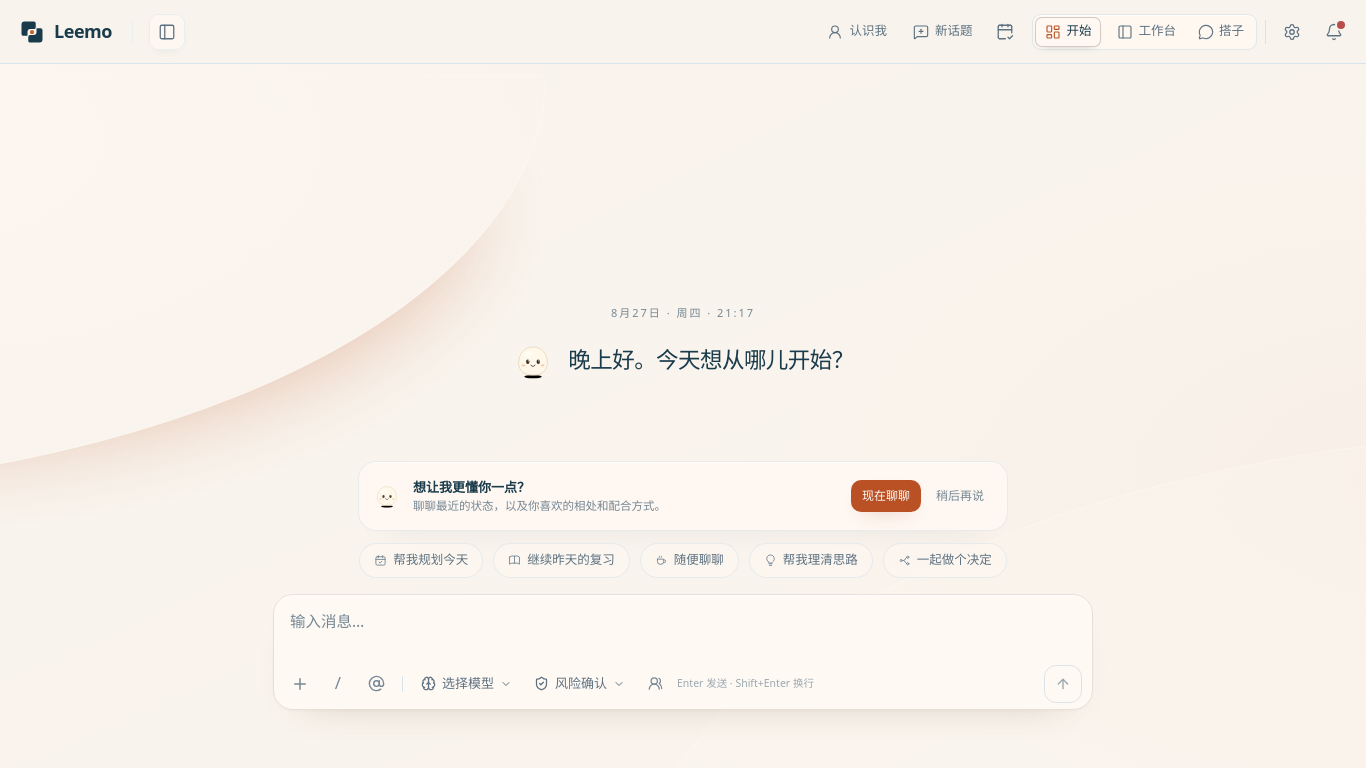
Test: HistoryDrawer — real conversations, not fixtures › lists nothing but an empty state before any conversation exists
Click the button named "历史对话" at coordinates (167, 32), box [149, 14, 185, 50]
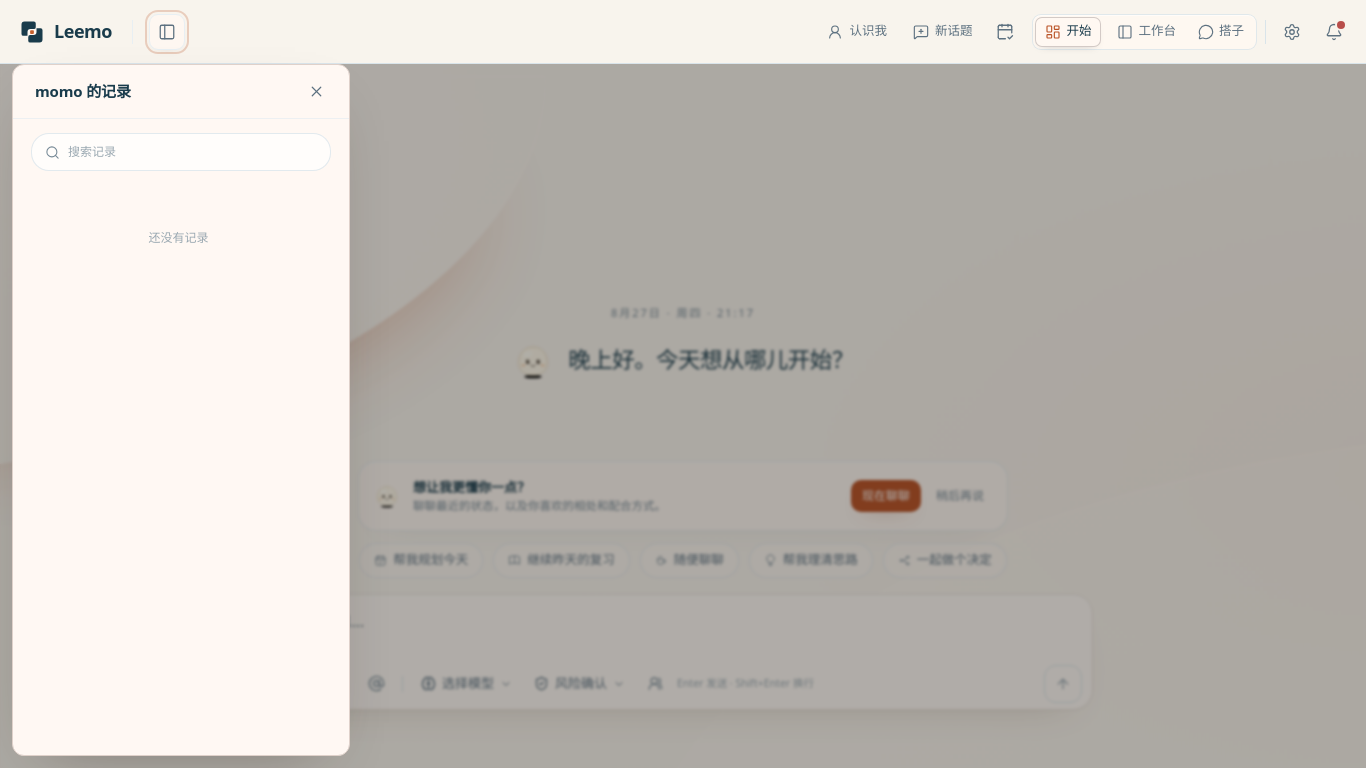
Expected: the text "还没有记录" is shown, [148, 229, 208, 246]
